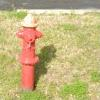a fire hydrant: (16, 14, 44, 91)
